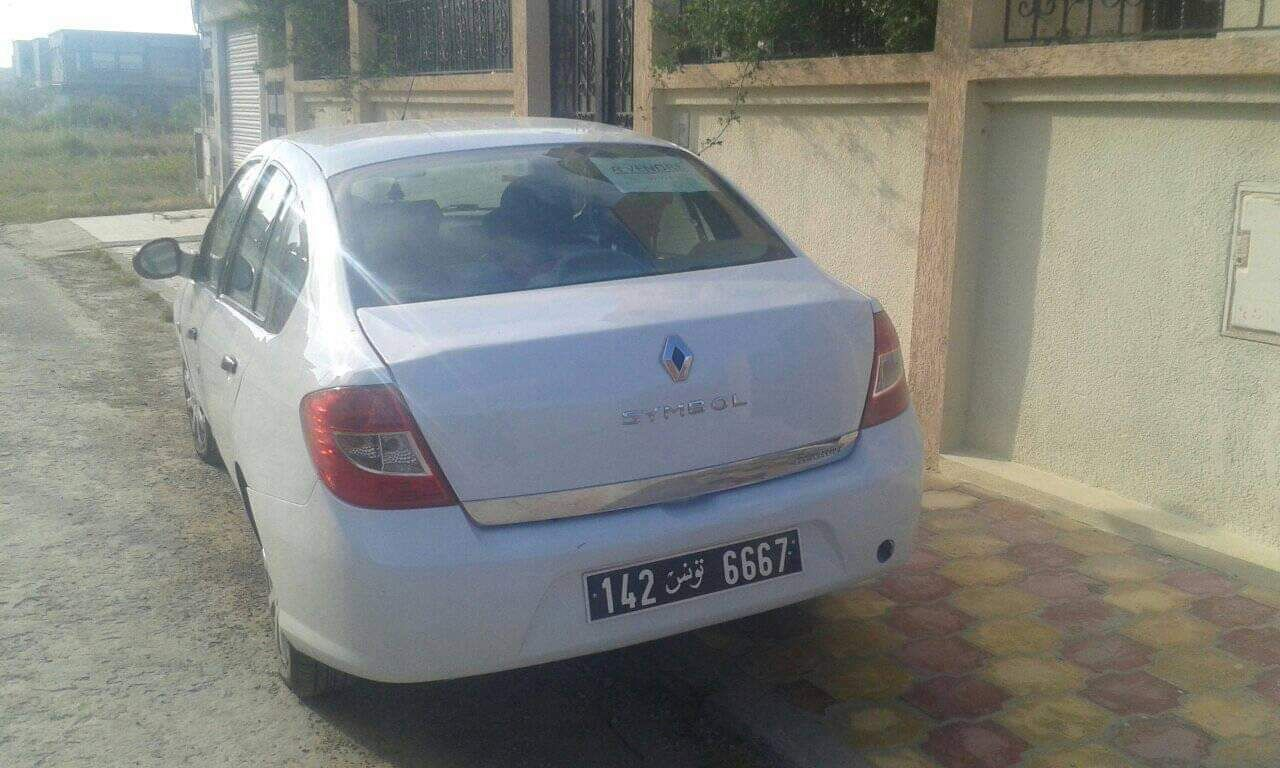LP: (585, 524, 802, 620)
